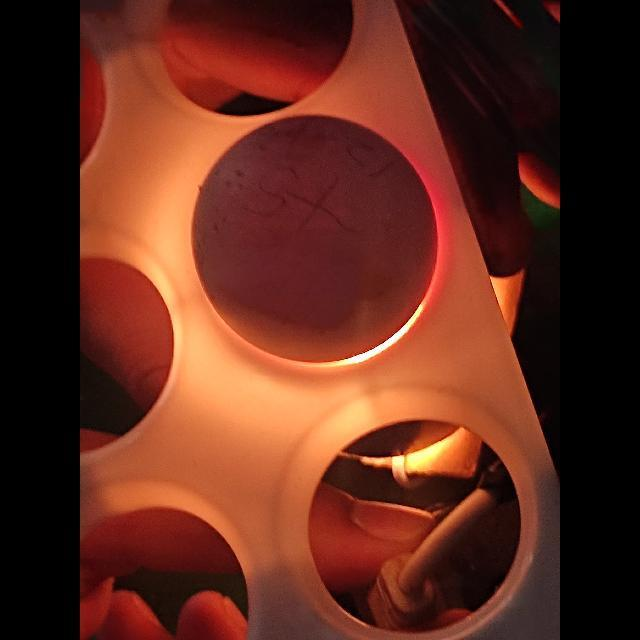A - Good: (181, 112, 448, 374)
